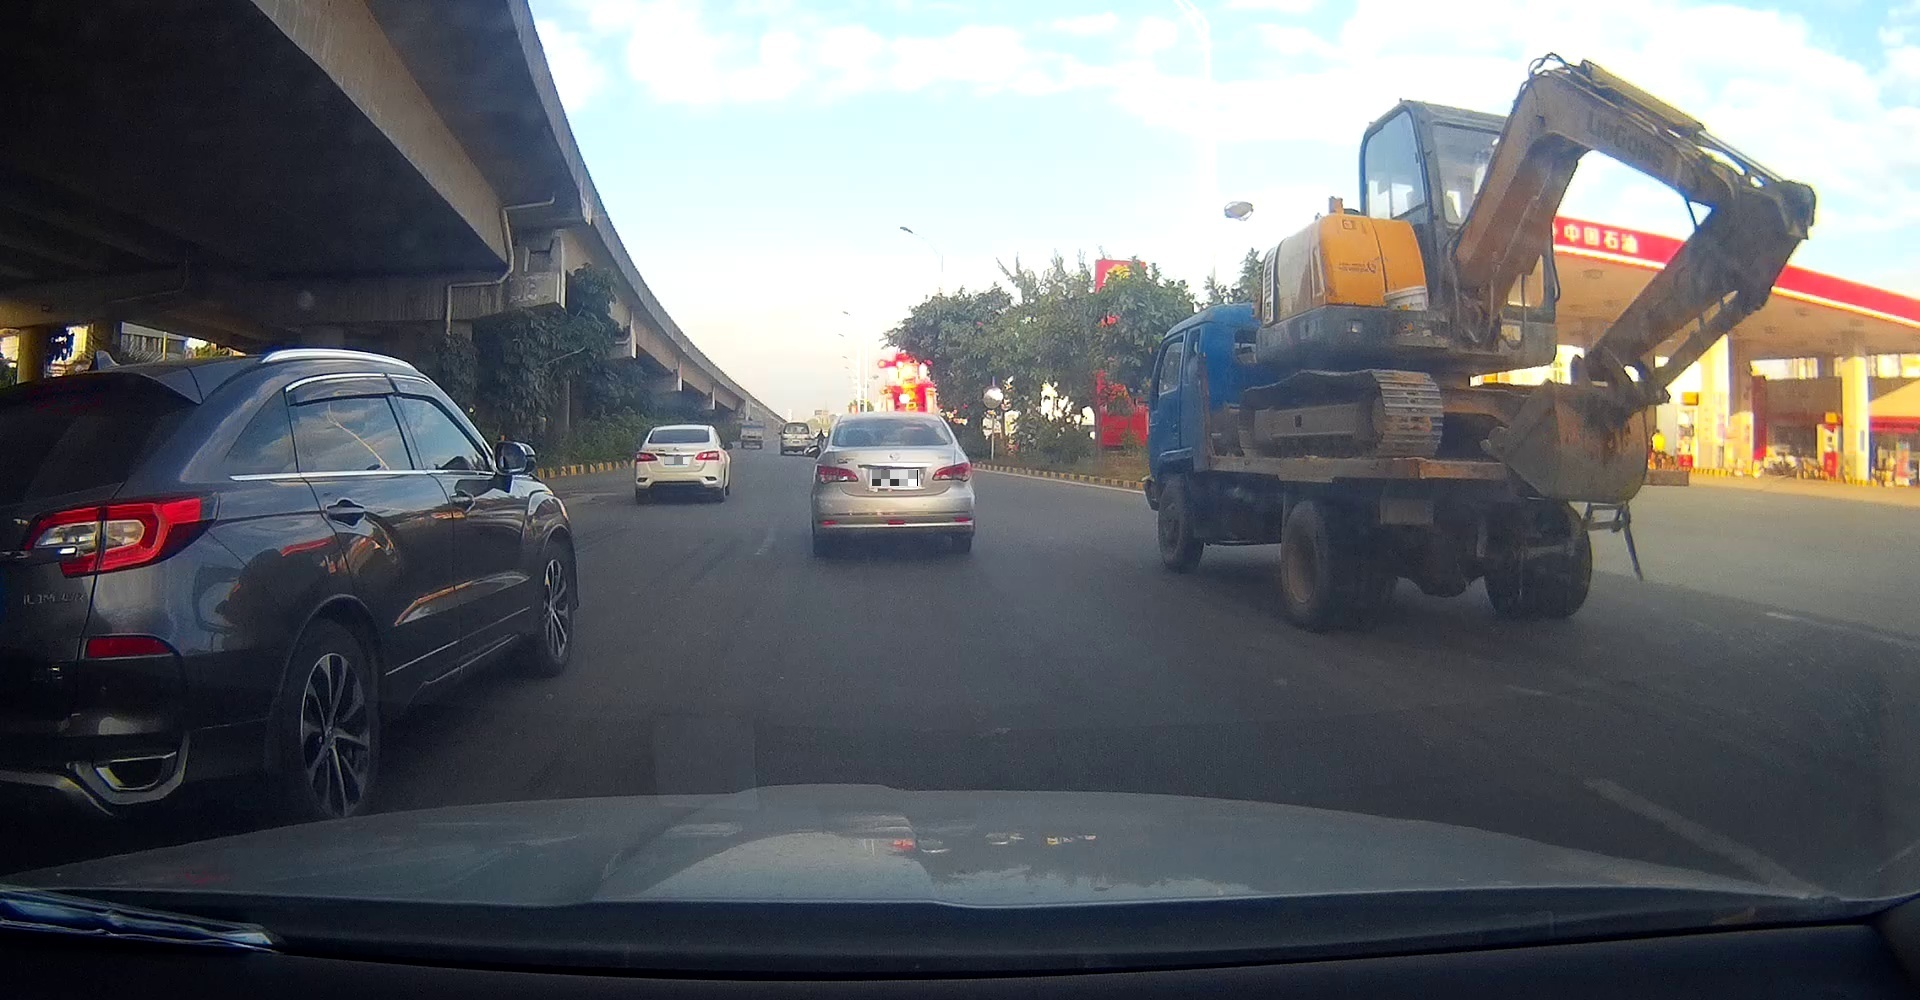L_light: (817, 466, 858, 484), (636, 452, 658, 462)
R_light: (931, 461, 971, 481), (695, 451, 720, 461)
T_light: (881, 418, 900, 421), (674, 429, 690, 431)
day-no: (813, 412, 975, 549), (635, 425, 723, 503)
plate_1: (665, 457, 688, 464)
plate_2: (872, 470, 918, 486)
